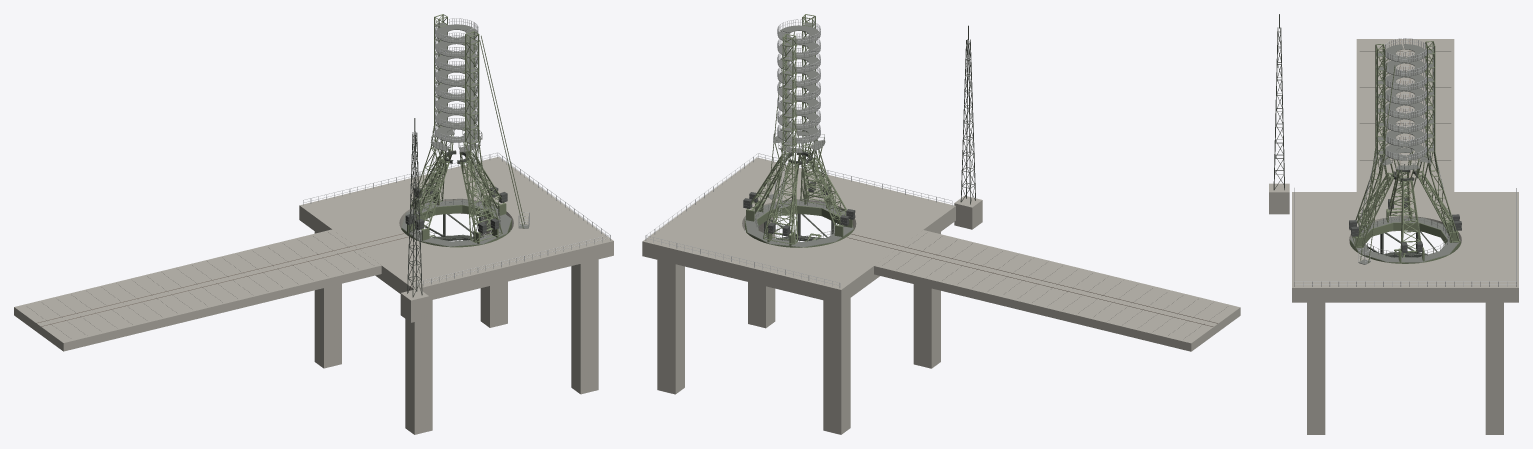
The model's file is pad.lod1.glb.
3 renders of one model, left to right at view 1: azimuth 30°, elevation 25°; view 2: azimuth 150°, elevation 25°; view 3: azimuth 270°, elevation 25°, orthographic.
Parts seen in each view (by area): view 1: Platform_Concrete, RailApproach_Concrete, SouthServiceTower_Frame_Green, SouthServiceTower_Frame_Deck, NorthServiceTower_Frame_Deck, PadMast_Dark, LaunchRing_Deck, Platform_Galv, SouthServiceTower_Frame_Galv, Support_2_Green, NorthServiceTower_Frame_Green, NorthServiceTower_Frame_Galv (+4 smaller); view 2: Platform_Concrete, RailApproach_Concrete, NorthServiceTower_Frame_Green, NorthServiceTower_Frame_Deck, LaunchRing_Deck, SouthServiceTower_Frame_Deck, PadMast_Dark, Platform_Galv, NorthServiceTower_Frame_Galv, SouthServiceTower_Frame_Green, Support_2_Green, RailApproach_Rail (+6 smaller); view 3: Platform_Concrete, RailApproach_Concrete, SouthServiceTower_Frame_Green, SouthServiceTower_Frame_Deck, NorthServiceTower_Frame_Deck, NorthServiceTower_Frame_Green, LaunchRing_Deck, NorthServiceTower_Frame_Galv, SouthServiceTower_Frame_Galv, LaunchRing_Green, PadMast_Dark, Support_4_Green (+7 smaller).
Part boxes in pixels (box(x1,y1,x2,y2)): Platform_Concrete: box(299, 156, 613, 434); RailApproach_Concrete: box(14, 229, 381, 351); SouthServiceTower_Frame_Green: box(463, 31, 524, 242); SouthServiceTower_Frame_Deck: box(440, 28, 477, 144); NorthServiceTower_Frame_Deck: box(435, 22, 472, 138); PadMast_Dark: box(407, 118, 422, 297); LaunchRing_Deck: box(401, 198, 511, 246); Platform_Galv: box(303, 152, 610, 287); SouthServiceTower_Frame_Galv: box(440, 22, 478, 141); Support_2_Green: box(411, 146, 449, 229); NorthServiceTower_Frame_Green: box(411, 14, 447, 209); NorthServiceTower_Frame_Galv: box(435, 18, 473, 137); Platform_Concrete: box(642, 157, 955, 434); RailApproach_Concrete: box(874, 230, 1240, 351); NorthServiceTower_Frame_Green: box(763, 34, 797, 244); NorthServiceTower_Frame_Deck: box(777, 31, 818, 146); LaunchRing_Deck: box(745, 199, 853, 247); SouthServiceTower_Frame_Deck: box(779, 22, 820, 137); PadMast_Dark: box(960, 25, 975, 204); Platform_Galv: box(645, 153, 952, 287); NorthServiceTower_Frame_Galv: box(777, 26, 818, 142); SouthServiceTower_Frame_Green: box(768, 14, 834, 206); Support_2_Green: box(808, 147, 849, 226); RailApproach_Rail: box(847, 234, 1217, 326); Platform_Concrete: box(1292, 192, 1518, 434); RailApproach_Concrete: box(1356, 39, 1454, 191); SouthServiceTower_Frame_Green: box(1352, 44, 1395, 263); SouthServiceTower_Frame_Deck: box(1376, 44, 1407, 160); NorthServiceTower_Frame_Deck: box(1403, 44, 1433, 160); NorthServiceTower_Frame_Green: box(1424, 41, 1459, 242); LaunchRing_Deck: box(1350, 216, 1460, 262); NorthServiceTower_Frame_Galv: box(1403, 38, 1426, 159); SouthServiceTower_Frame_Galv: box(1384, 38, 1407, 159); LaunchRing_Green: box(1350, 222, 1460, 263); PadMast_Dark: box(1273, 14, 1284, 190); Support_4_Green: box(1397, 168, 1420, 252).
Bounding box in the file's own units: 103 × 66.58 × 43.6.
